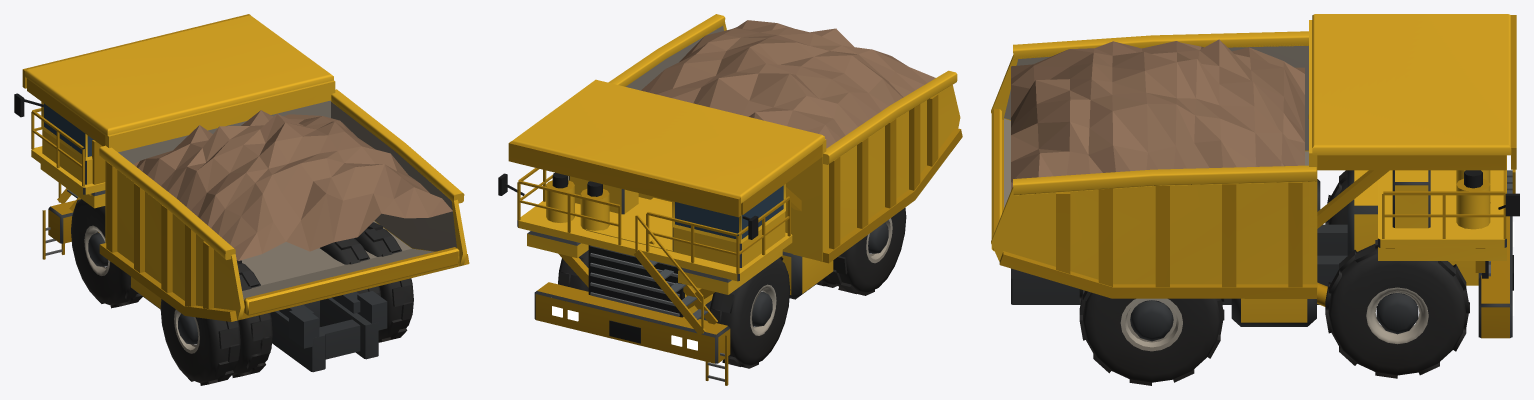
File: cat785c_lod0.glb
3 renders of one model, left to right at view 1: azimuth 30°, elevation 25°; view 2: azimuth 150°, elevation 25°; view 3: azimuth 270°, elevation 25°, orthographic. The views are drawn at different scales.
Parts seen in each view (by area): view 1: body, load, frame, wheel_RL, wheel_FL, wheel_RR; view 2: body, frame, load, wheel_FL, wheel_RL, wheel_FR; view 3: body, load, frame, wheel_FR, wheel_RR, wheel_FL.
Boxes of the visible parts, box(x1,y1,x2,y2) form: body: box(22, 14, 469, 348); load: box(133, 110, 452, 260); frame: box(14, 93, 378, 372); wheel_RL: box(160, 260, 272, 385); wheel_FL: box(71, 199, 142, 308); wheel_RR: box(320, 222, 413, 342); body: box(508, 14, 962, 263); frame: box(498, 168, 833, 385); load: box(641, 20, 935, 148); wheel_FL: box(710, 256, 790, 368); wheel_RL: box(816, 207, 906, 295); wheel_FR: box(558, 250, 588, 291); body: box(991, 14, 1516, 298); load: box(1011, 39, 1304, 190); frame: box(1011, 155, 1519, 338); wheel_FR: box(1325, 239, 1469, 378); wheel_RR: box(1079, 289, 1224, 385); wheel_FL: box(1325, 170, 1347, 224).
Bounding box in the file's own units: 7.21 × 6.42 × 11.15.
